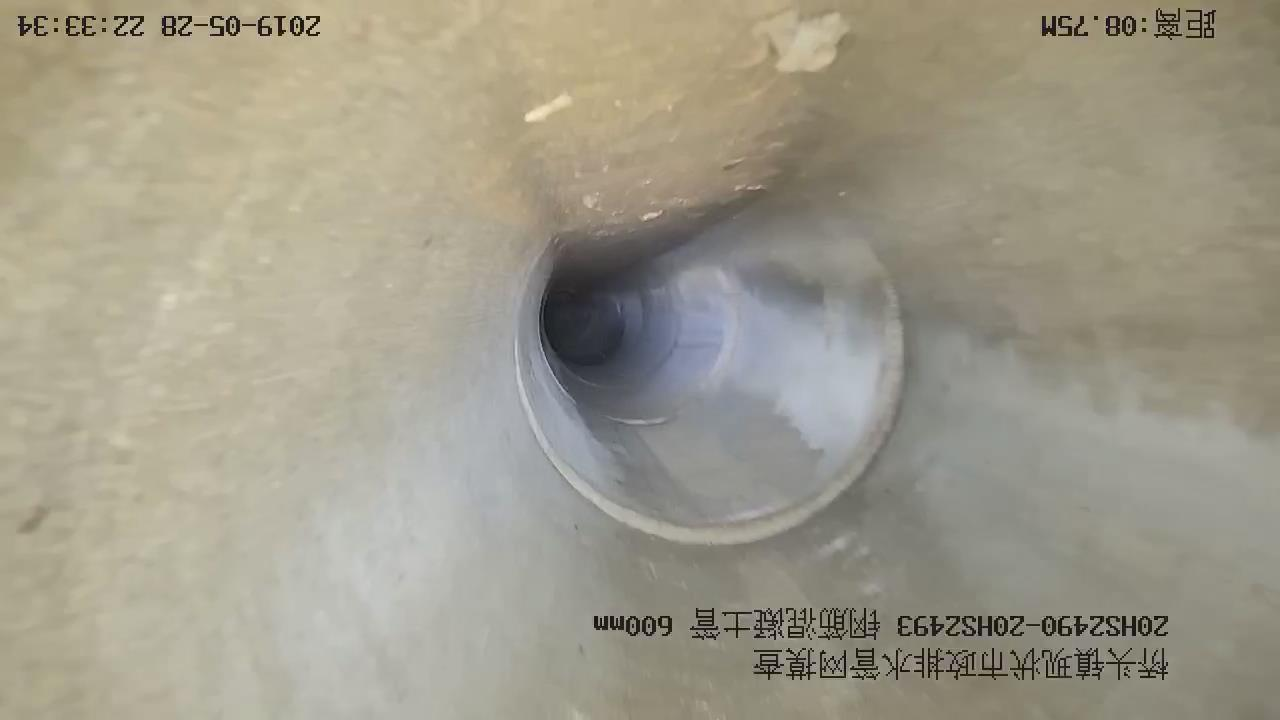CJ: (511, 1, 841, 278)
CKTJ: (514, 247, 905, 545)
